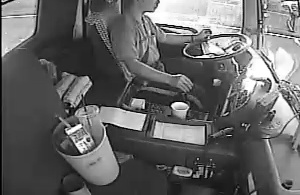cup: (168, 100, 191, 120)
